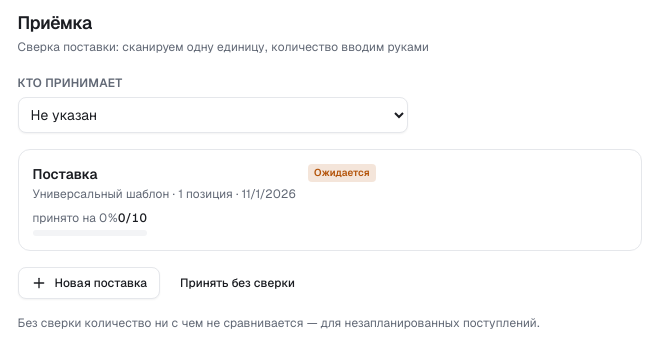
Test: ReceivingScreen — порядок шагов › выбранная поставка ведёт на шаг паллеты
Click the button "Поставка". click: click(65, 174)
box: [18,149,642,251]
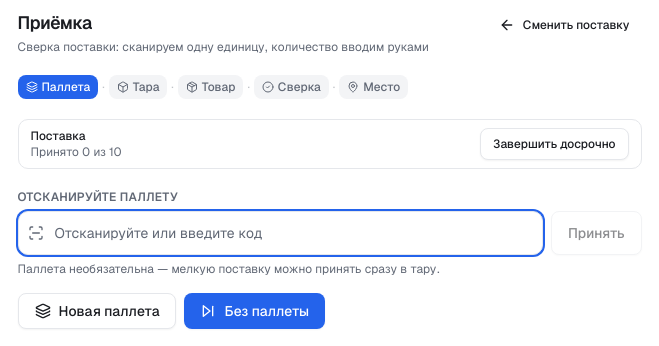
Now the text "Отсканируйте паллету" is shown, box [18,189,178,205]
Now the list item "Паллета ·" is shown, box [18,75,105,99]
